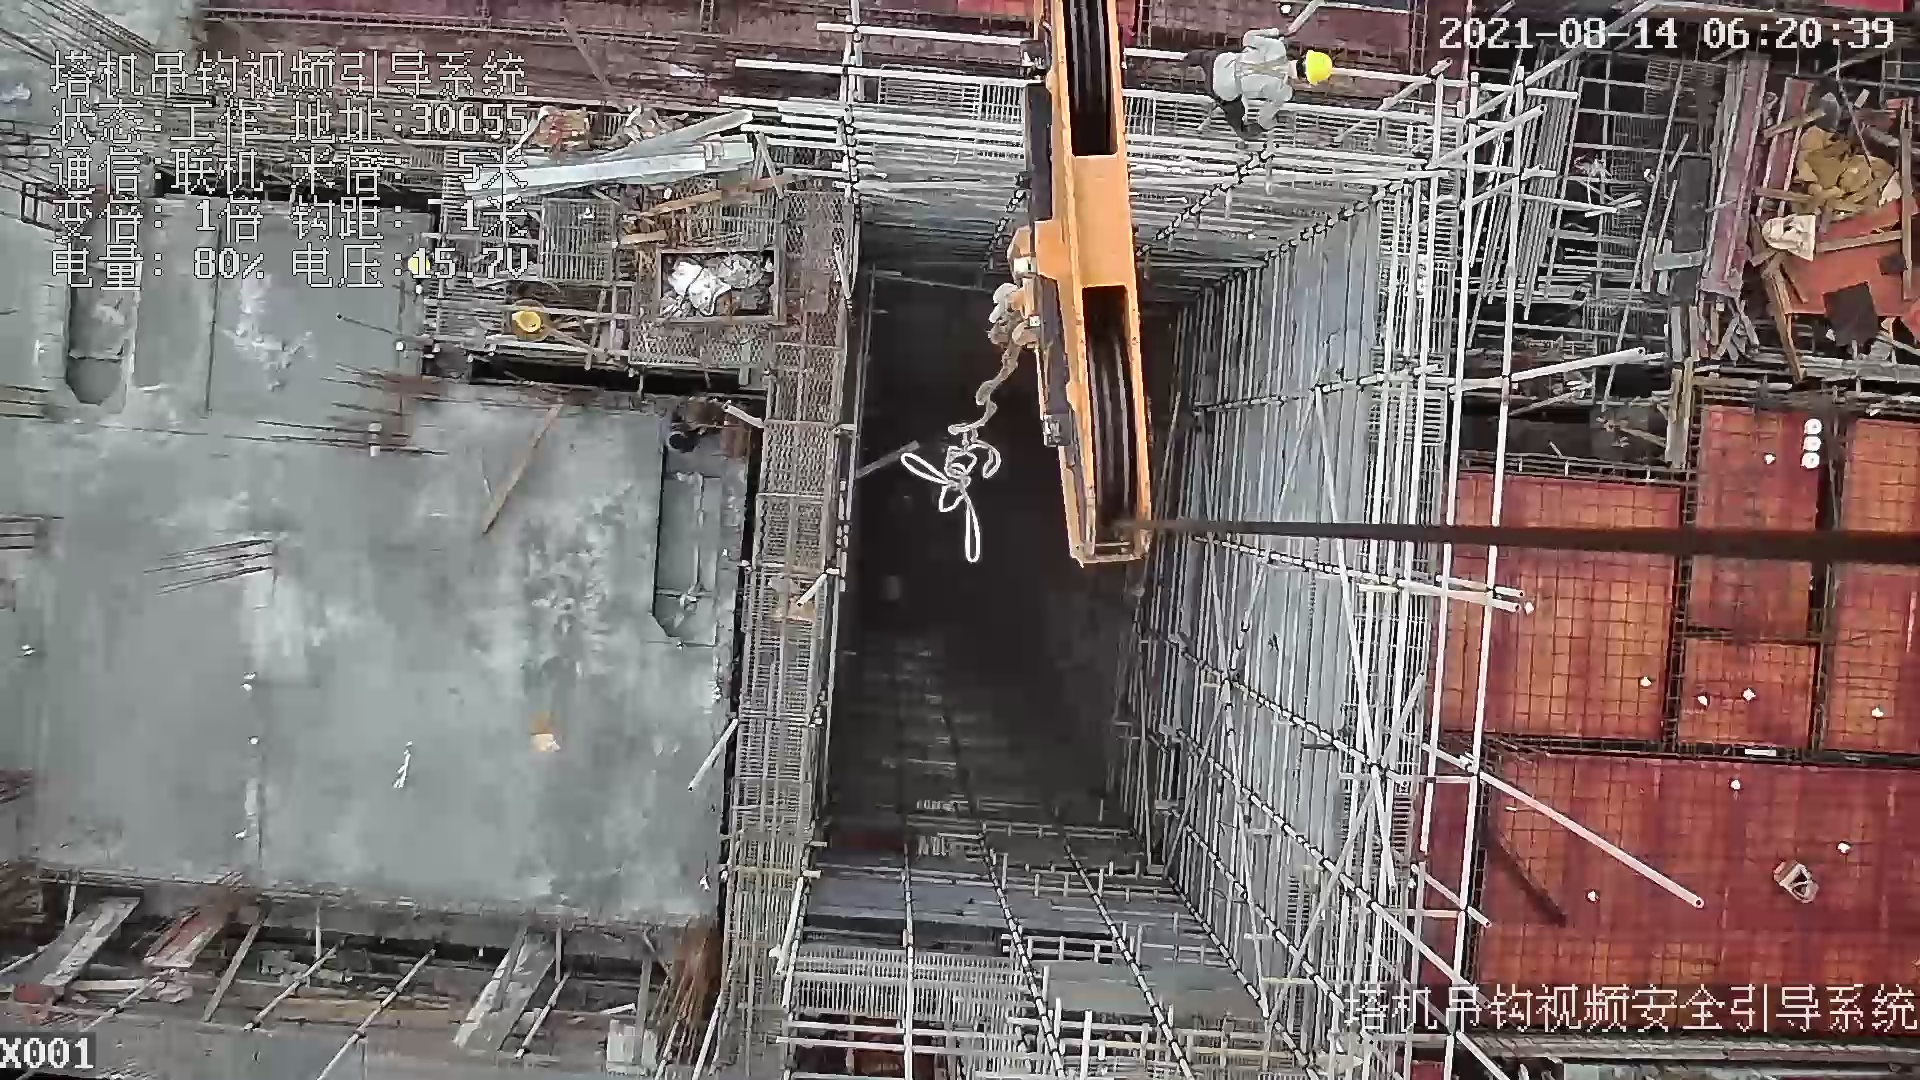helmet: (1300, 49, 1334, 85)
hook: (946, 1, 1158, 564)
person: (1194, 23, 1337, 146)
